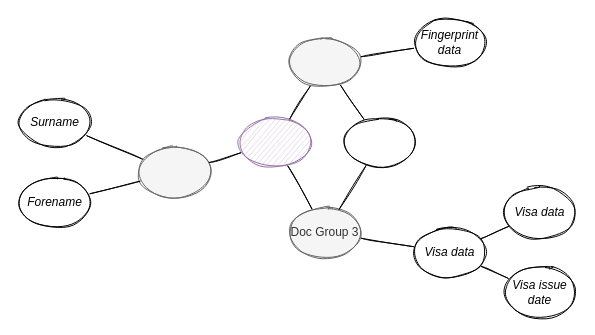
Some shapes in this 595 by 335 pixel diagram are drawn without their labels. The shapes that lost their labels are listed below. From the top down, each one's centre as x and y in pixels, then its label:
the point at 324,62: Doc Group 2
the point at 274,142: Date of birth
the point at 380,142: Nationality
the point at 174,172: Doc Group 1
